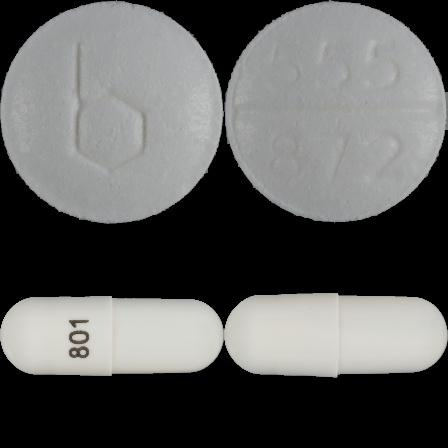64205-087: (0, 0, 224, 224)
